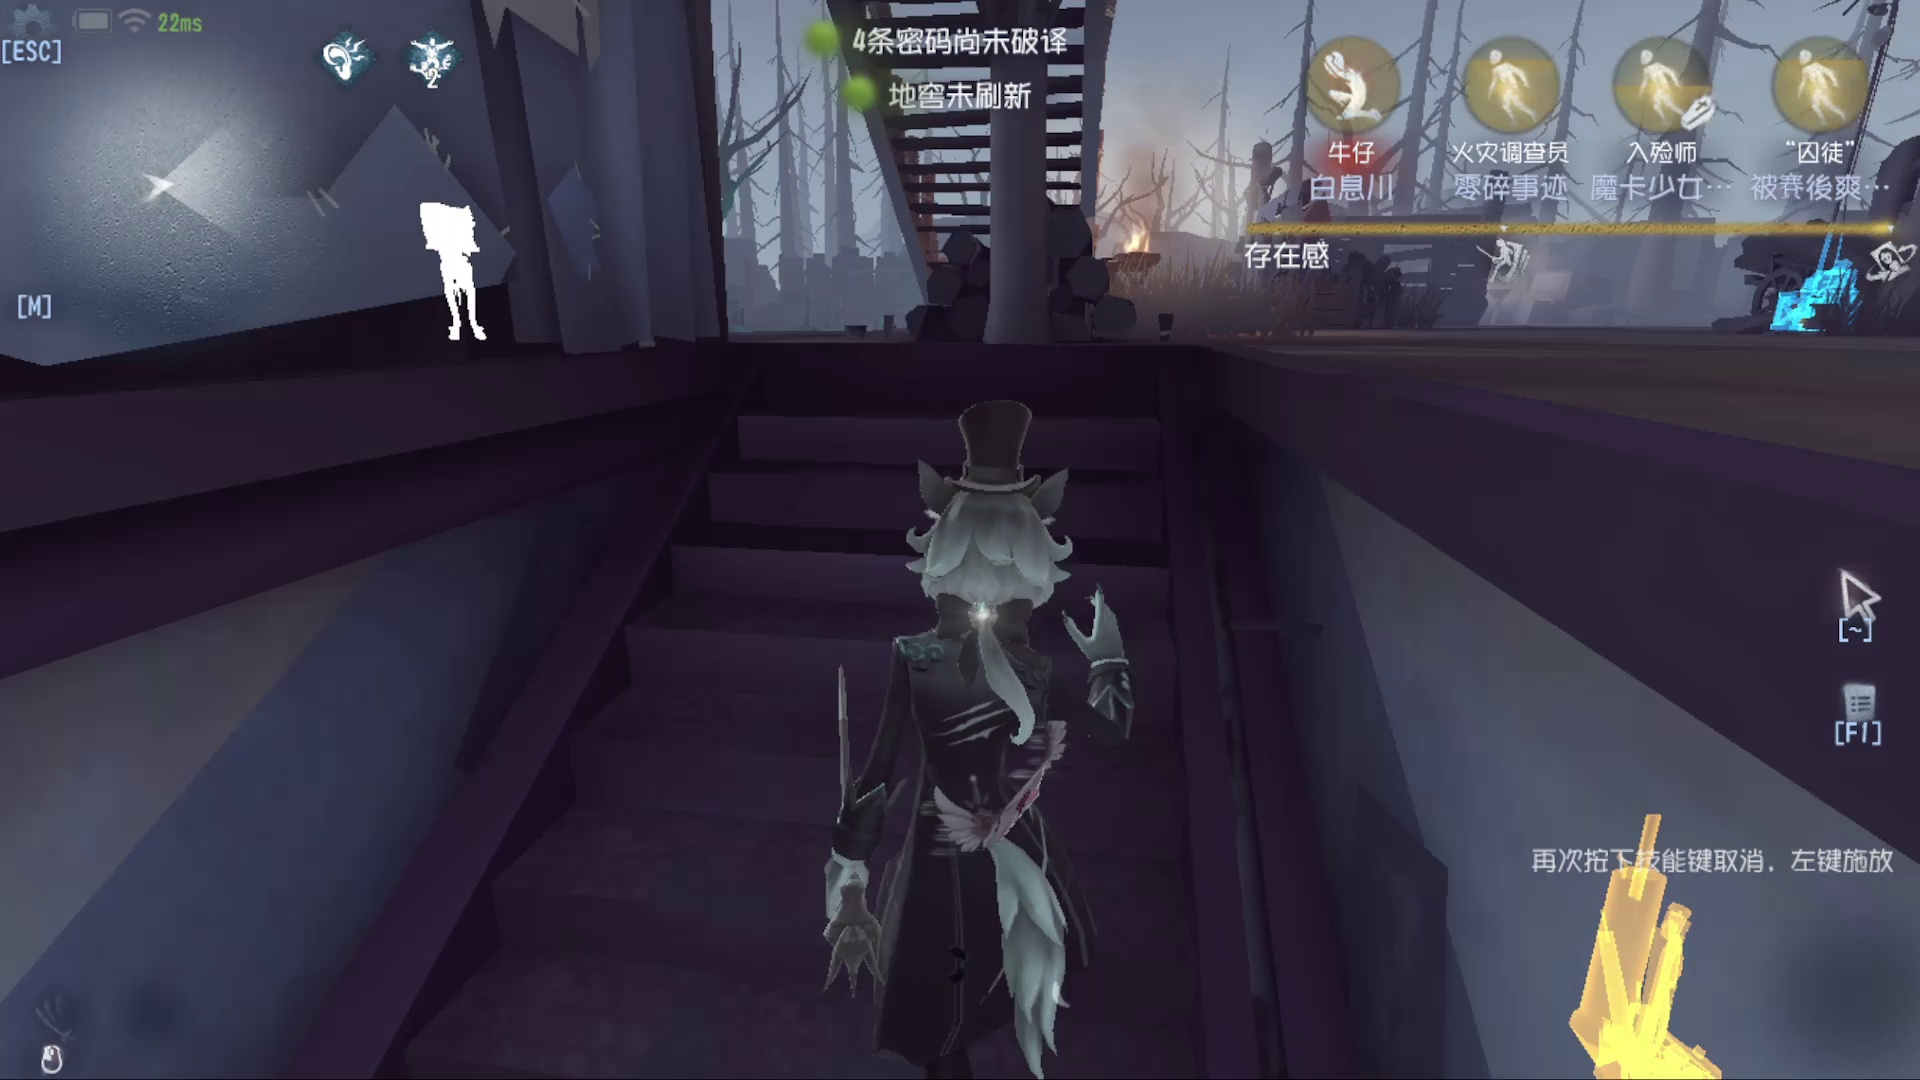狂欢之椅: (1524, 765, 1745, 1080)
